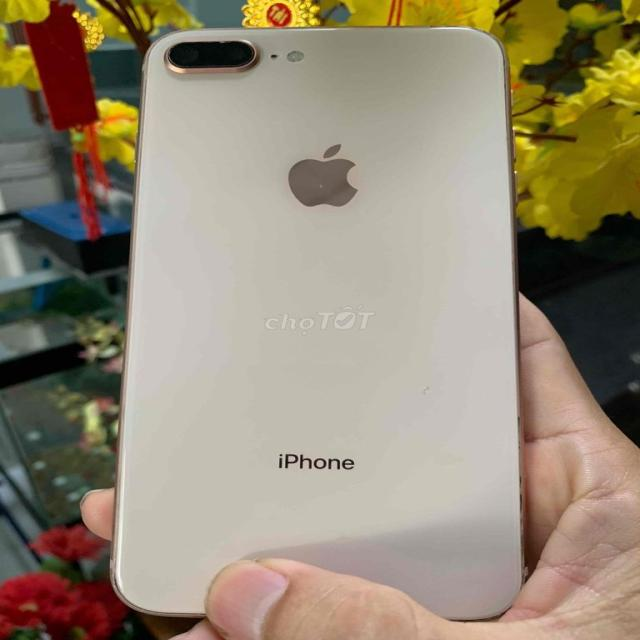gen_7_8: (114, 28, 534, 624)
